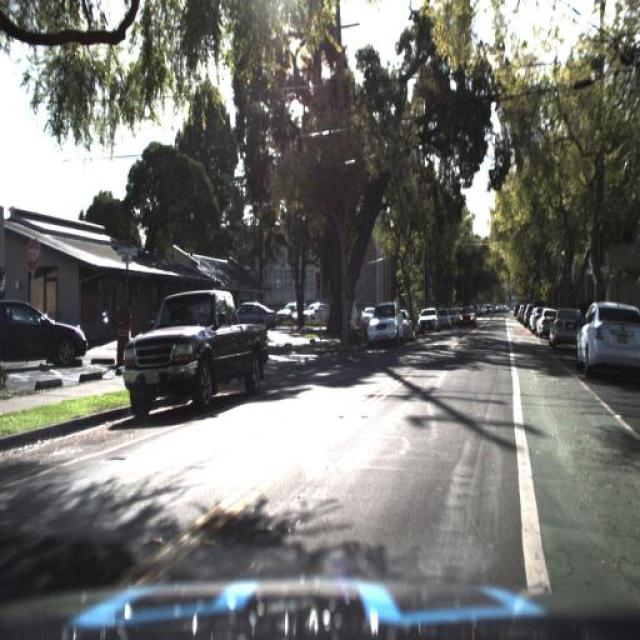car: (120, 280, 269, 420), (0, 298, 88, 380), (571, 284, 640, 386), (573, 294, 639, 386), (233, 289, 277, 336), (547, 305, 583, 354), (367, 297, 402, 347), (552, 298, 580, 350), (412, 305, 442, 337), (237, 301, 273, 327), (453, 302, 476, 338), (395, 300, 414, 342), (536, 303, 552, 346), (457, 301, 481, 328), (431, 305, 452, 334), (449, 304, 463, 336), (530, 304, 540, 340), (524, 300, 534, 330)
